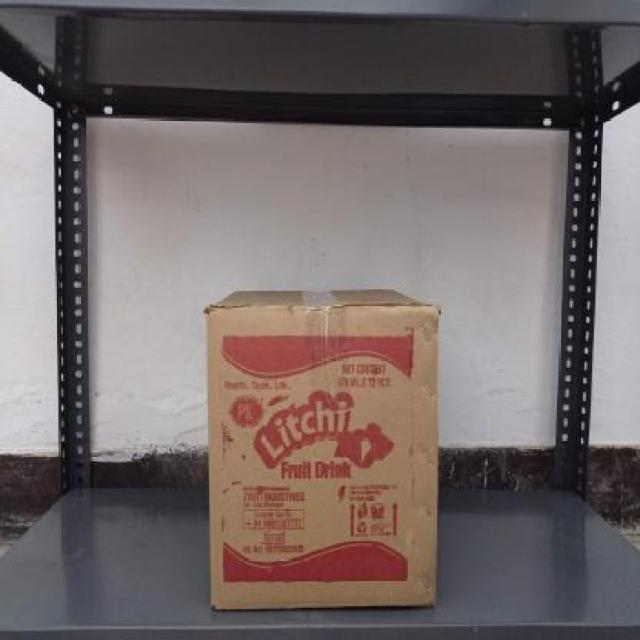box: (204, 308, 438, 606)
